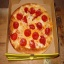pepperoni: (23, 28, 33, 39), (31, 30, 40, 42), (35, 20, 43, 33), (10, 30, 18, 42), (14, 13, 24, 22), (40, 13, 48, 23), (12, 22, 21, 30)
pizza: (9, 3, 52, 54)
